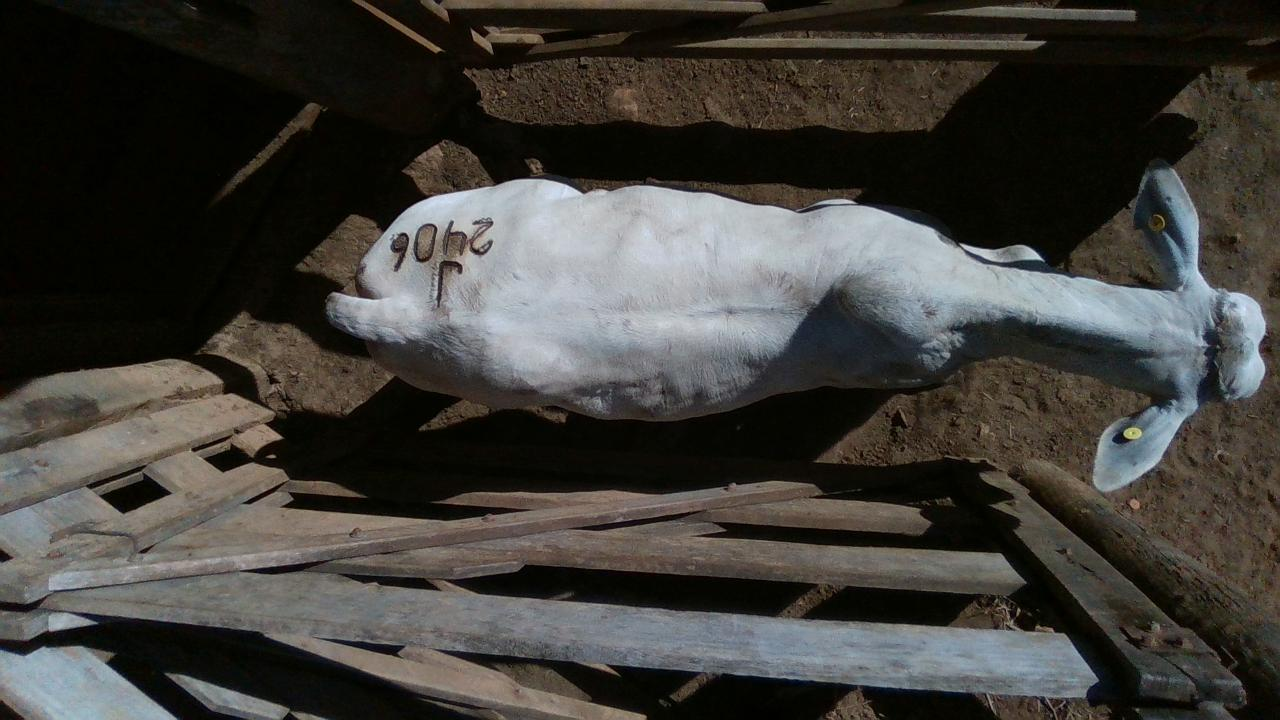cattle: (323, 158, 1268, 492)
